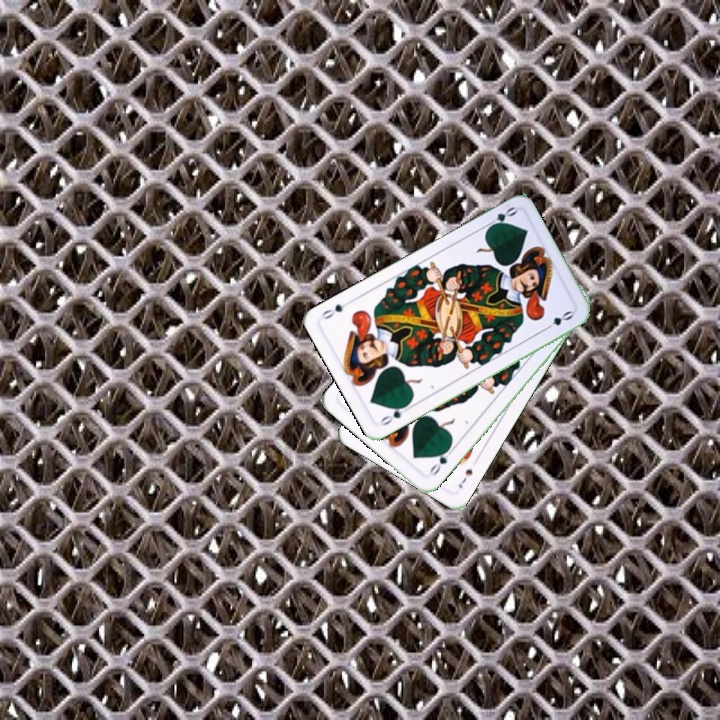GO: (423, 443, 456, 478), (481, 202, 519, 232), (376, 400, 414, 428)
S7: (454, 465, 475, 491)
